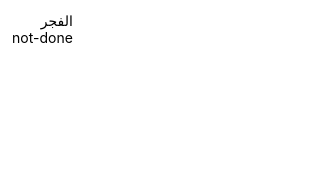
it: native wird hooks › surfaces a failed toggle through hasError
The width and height of the screenshot is (332, 172).
Step 1. Click the element with test id "item" → (42, 38), box [12,29,73,46]
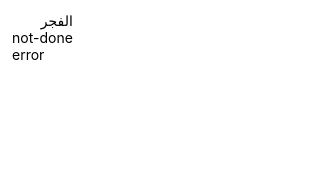
Check: the text "error" is shown, box [12,46,44,63]
